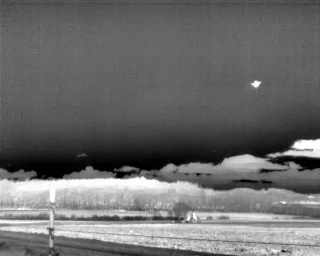DRONE: (248, 76, 265, 93)
